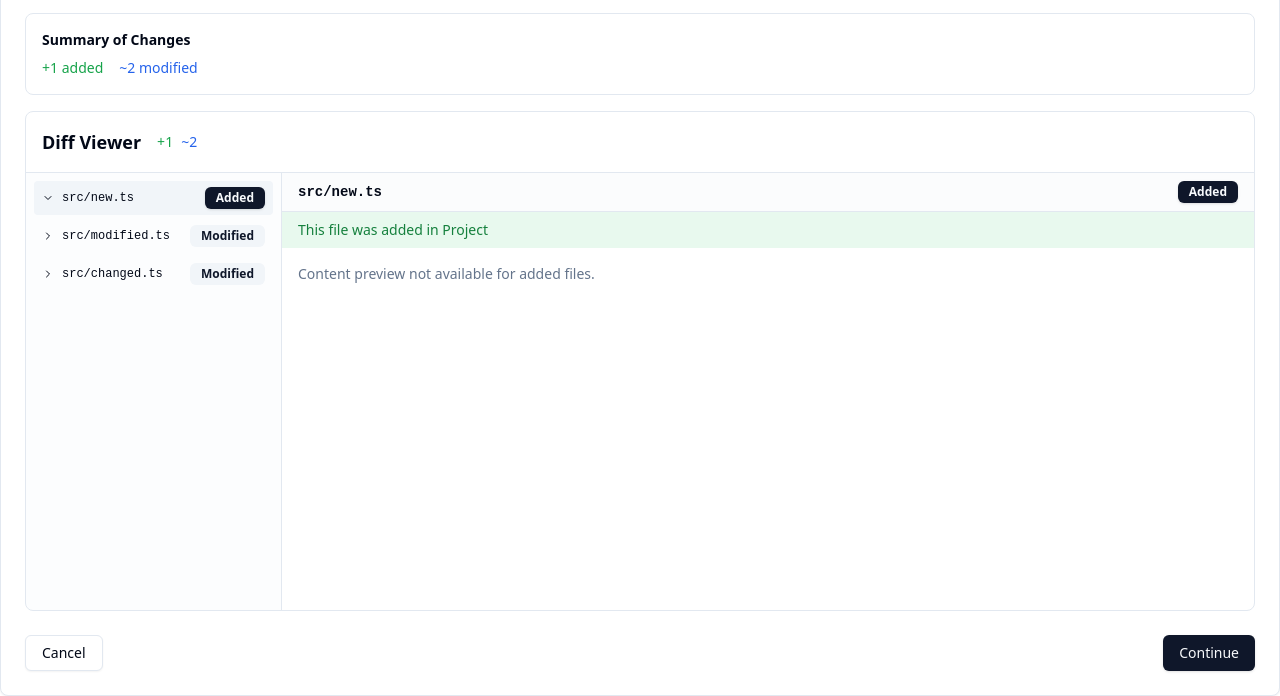
MergeWorkflow › Resolve Step › navigates back to Preview when Back clicked
(page scrolled)
Go to Resolve step
Click the button "Continue".
click(1209, 653)  # box x1=1163 y1=635 x2=1255 y2=671
(page scrolled)
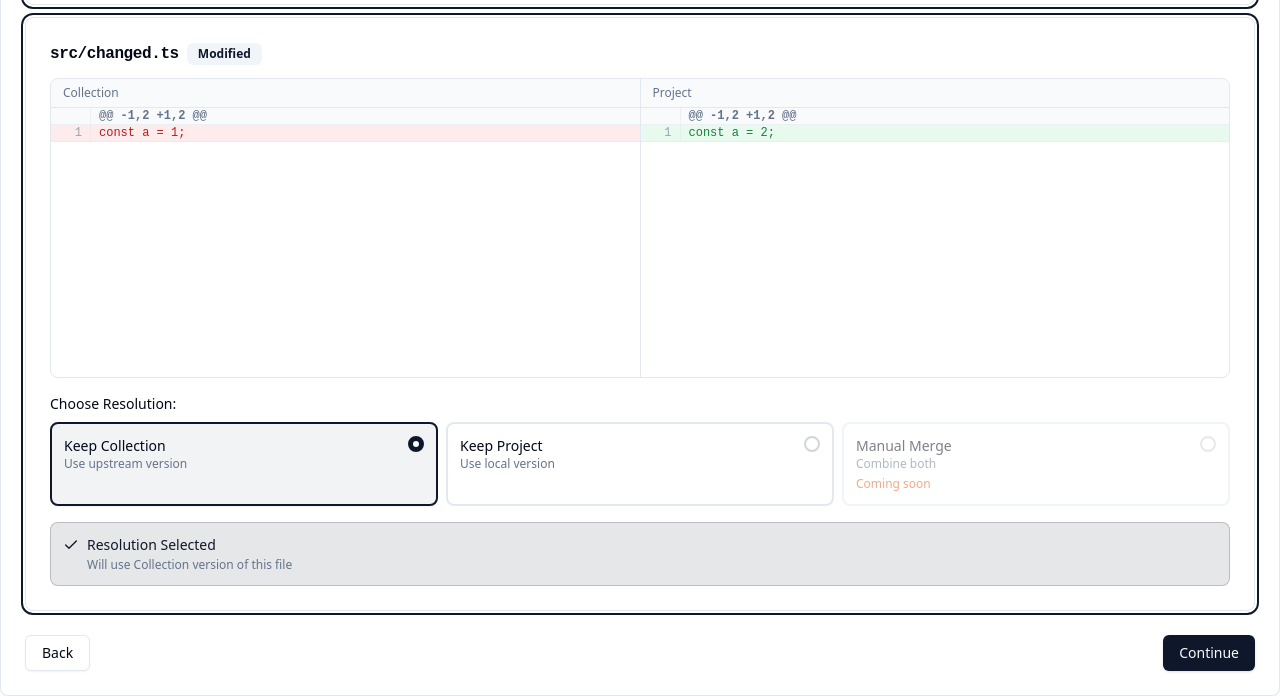
Click Back
Click the button "Back".
click(58, 653)  # box x1=25 y1=635 x2=90 y2=671
(page scrolled)
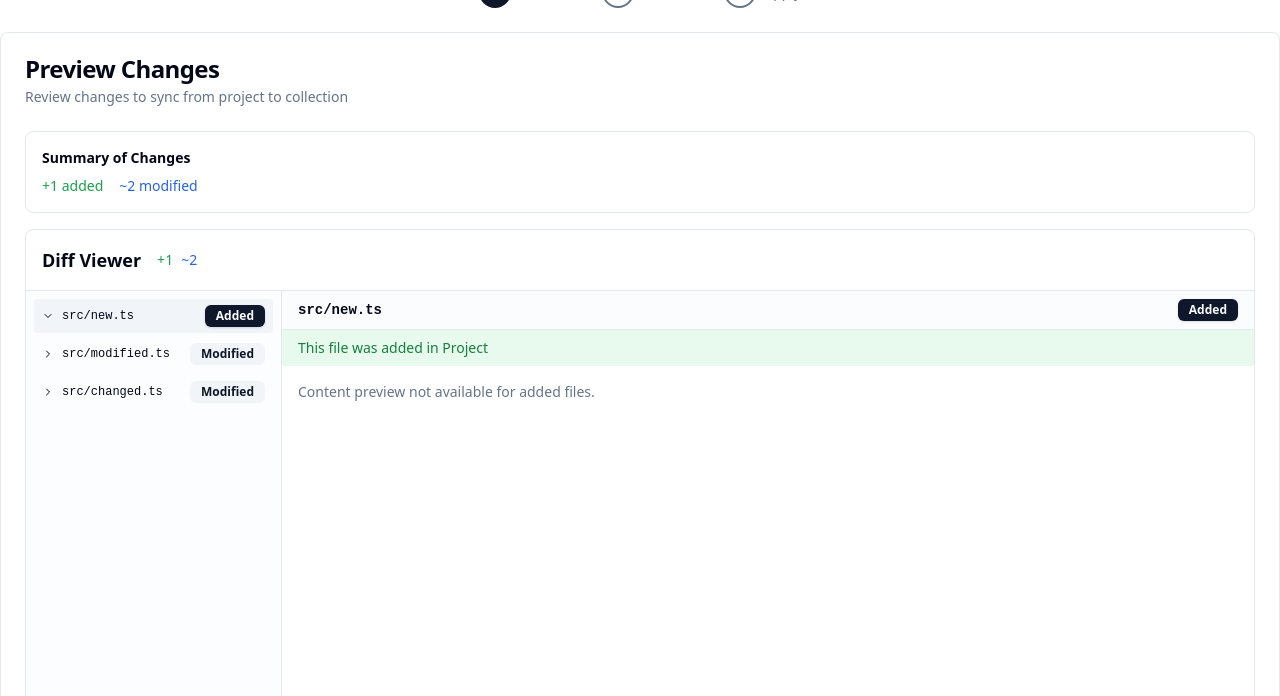
Check: the heading "Preview Changes" is shown, box x1=25 y1=52 x2=219 y2=85
